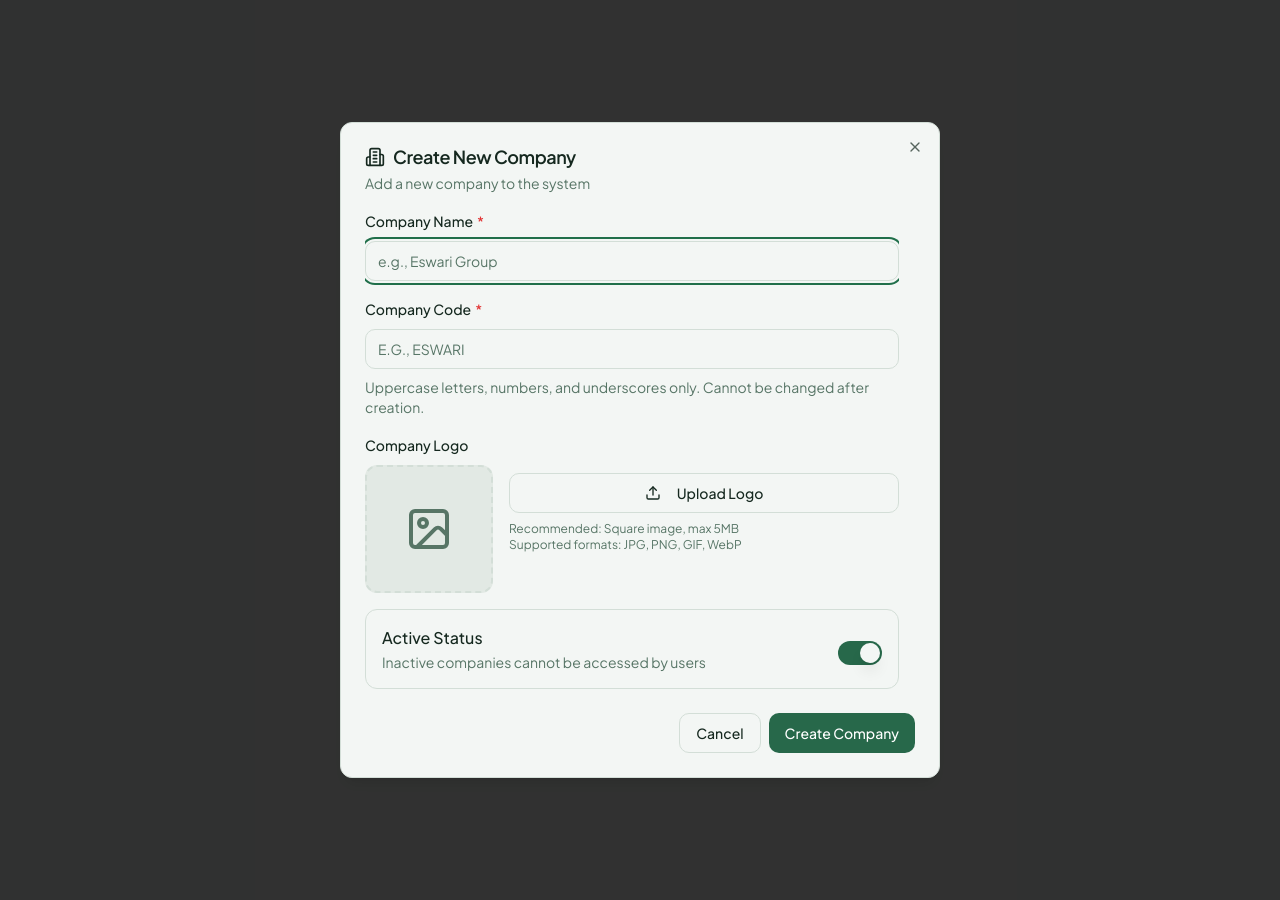
Scenario: CompanyManagementForm › should validate required fields
// Try to submit without filling fields
Click the button "Create Company" at (842, 733), box 769,713 -> 915,753
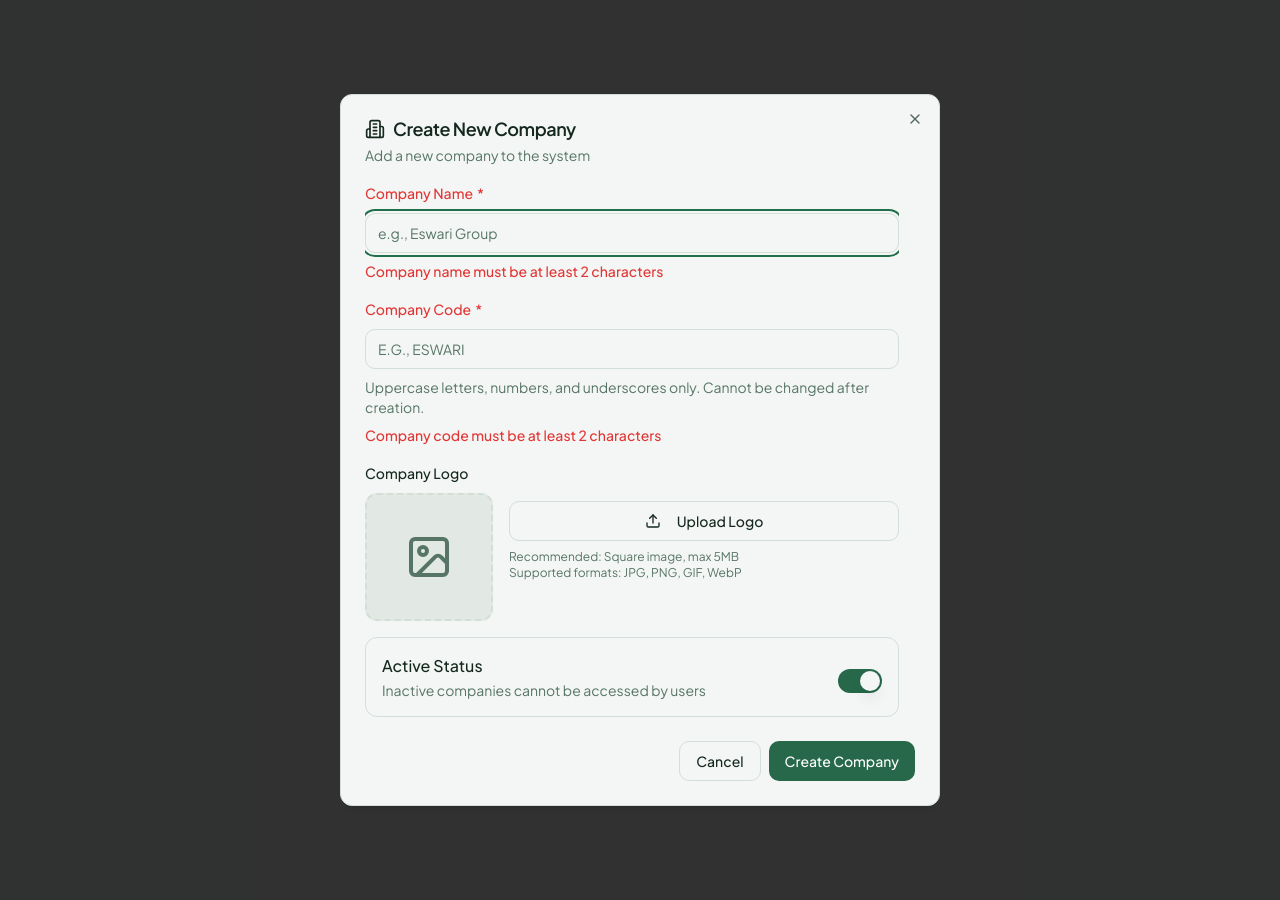
expect the text "Company name must be at least 2 characters" is shown: met, box 365,262 -> 663,280
expect the text "Company code must be at least 2 characters" is shown: met, box 365,426 -> 661,444
